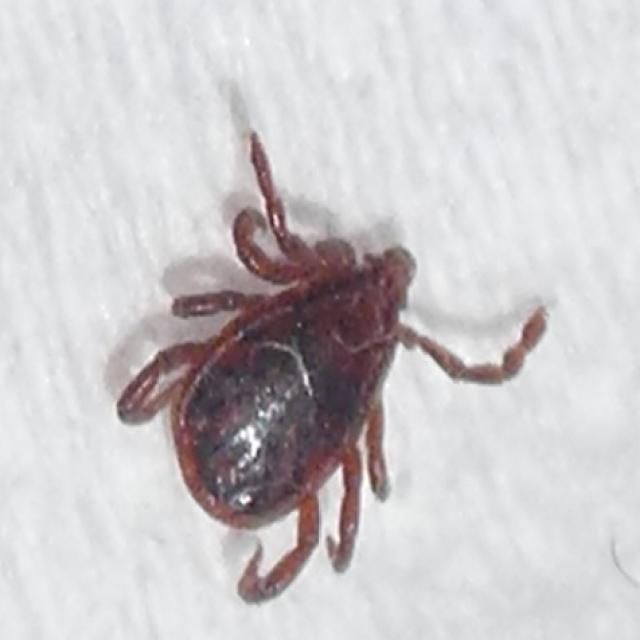Rhipicephalus Sanguineus-M: (114, 131, 550, 603)
